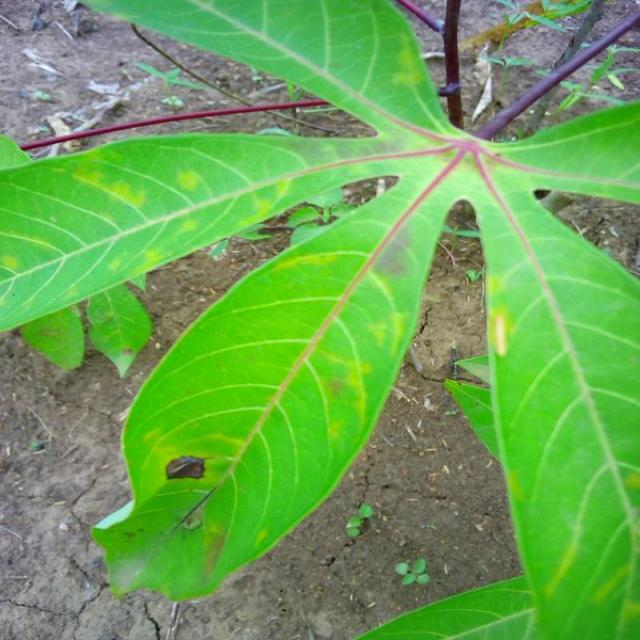cassava leaf: (1, 0, 638, 636), (90, 163, 452, 604)
